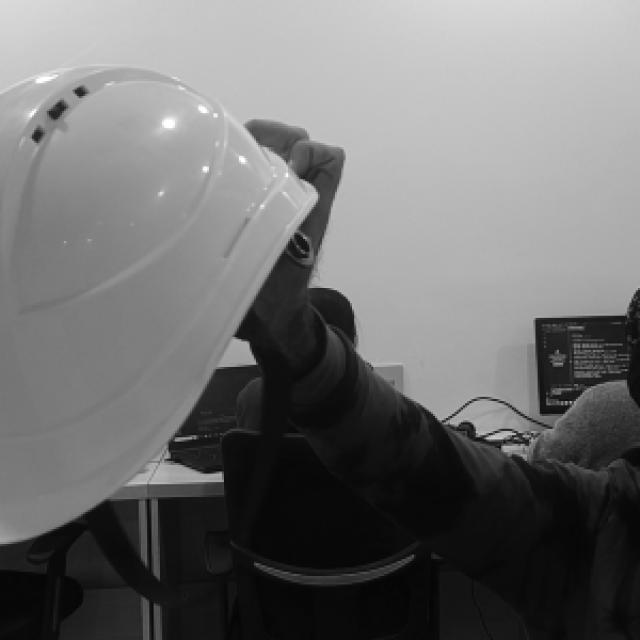safety_helmet: (0, 64, 322, 546)
